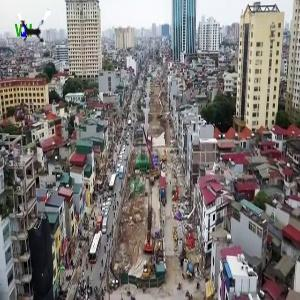drone: (14, 4, 60, 50)
